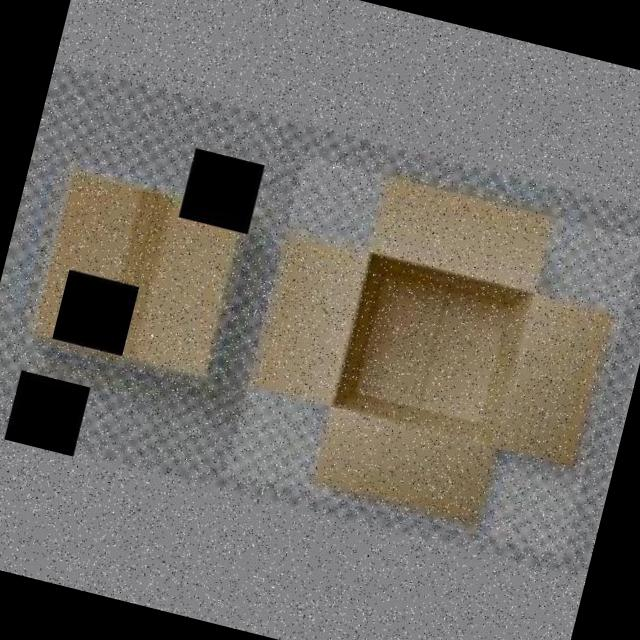box: (225, 154, 640, 556), (24, 160, 258, 390)
